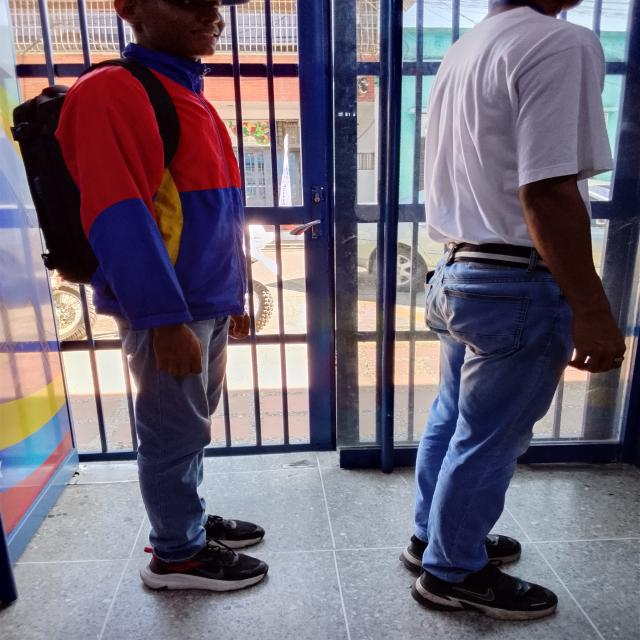chaqueta_unefa: (52, 42, 248, 331)
